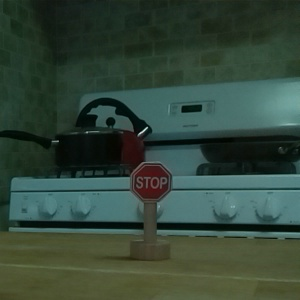stop sign: (127, 159, 173, 262)
